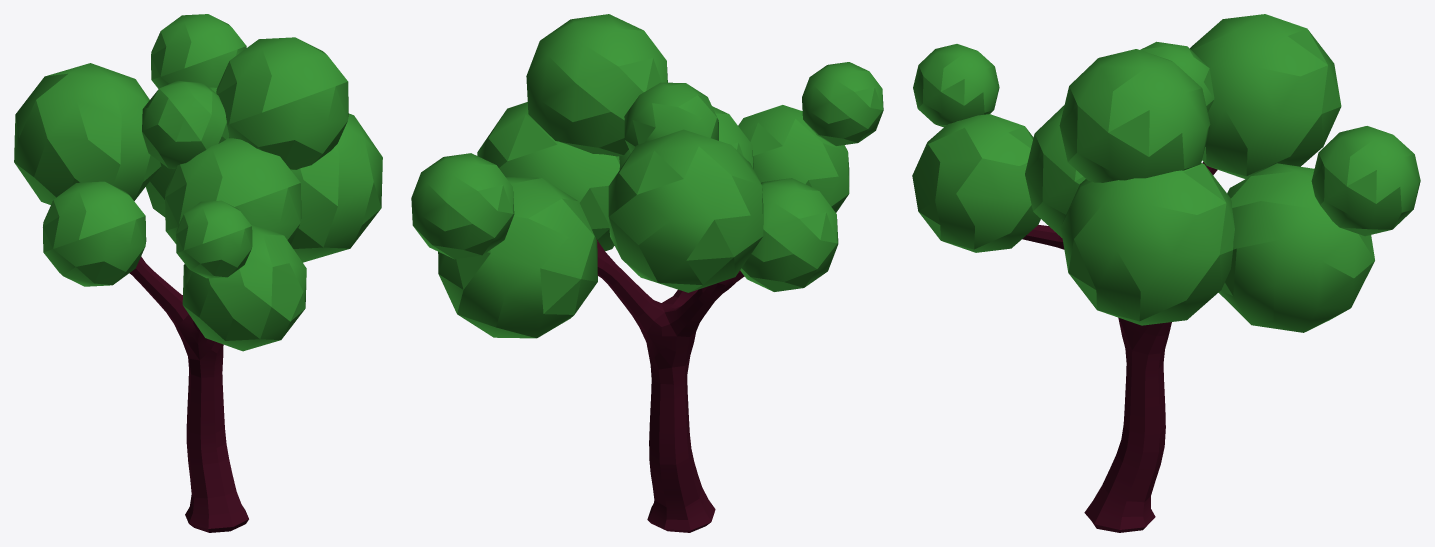
The model's file is tree.fbx.
3 views of the same model, side by side, from view 1: azimuth 30°, elevation 25°; view 2: azimuth 150°, elevation 25°; view 3: azimuth 270°, elevation 25° (orthographic). The views are drawn at different scales.
Parts seen in each view (by area): view 1: Vert; view 2: Vert; view 3: Vert.
Part boxes in pixels (bbox=[...]): Vert: bbox=[14, 14, 382, 532]; Vert: bbox=[411, 14, 883, 532]; Vert: bbox=[912, 14, 1420, 532].
Size of the model in its own units: 239 by 294 by 320.
